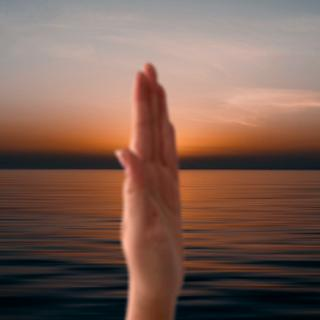Right: (102, 53, 204, 310)
